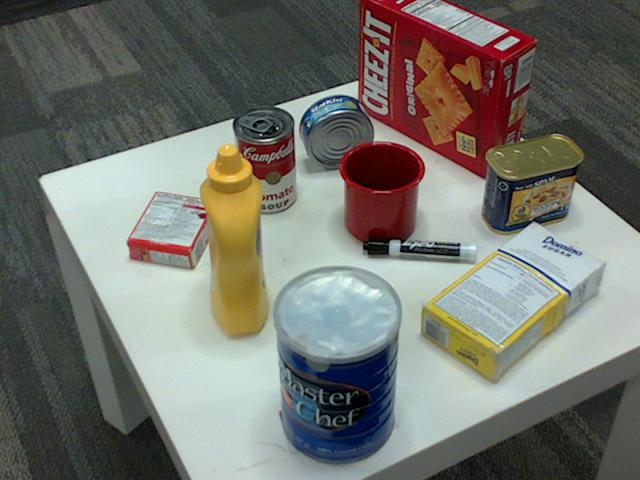cracker_box: (358, 0, 536, 178)
gelatin_box: (123, 188, 215, 266)
large_marker: (364, 238, 477, 265)
master_chef_can: (272, 267, 401, 467)
mug: (336, 139, 424, 244)
mustard_bottle: (197, 144, 267, 334)
potted_meat_can: (481, 136, 581, 235)
sugar_box: (418, 221, 603, 383)
tomato_soup_can: (232, 106, 295, 214)
tuna_fish_can: (298, 94, 372, 168)
